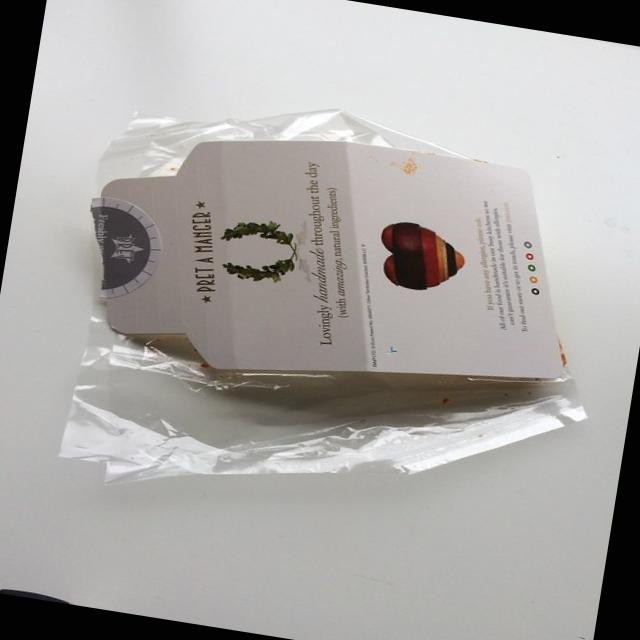Trash: (69, 98, 601, 426)
